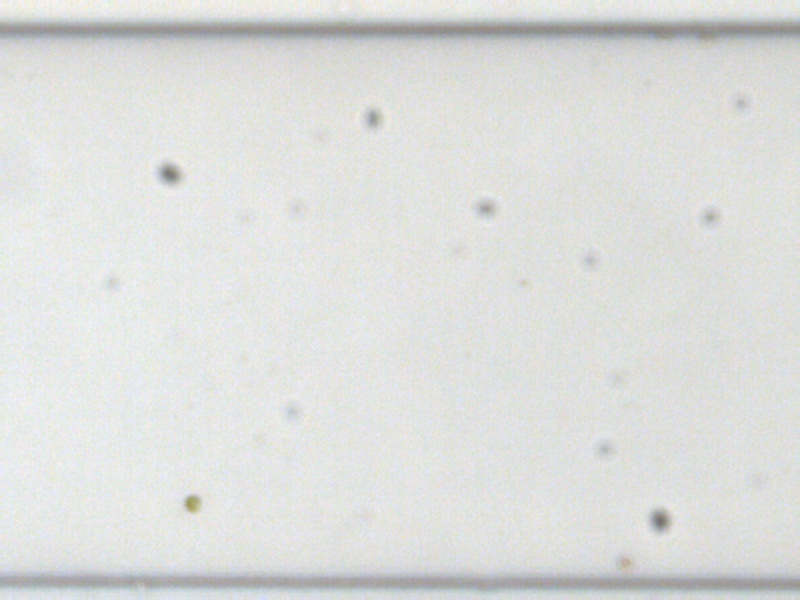Chlorella: (184, 492, 201, 512), (617, 555, 631, 568)
